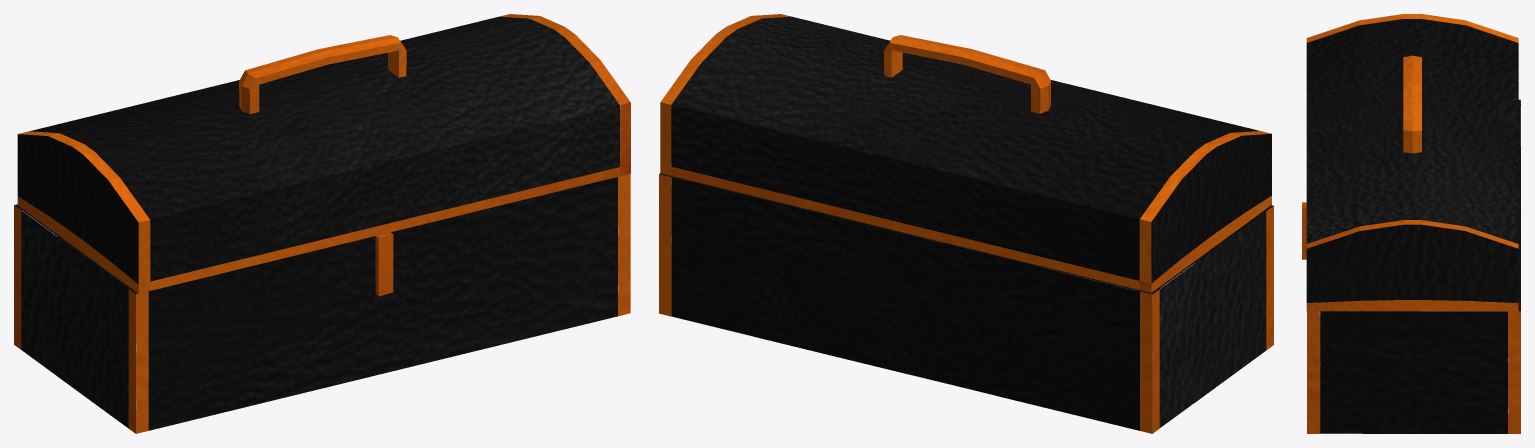
The model's file is toolBox.fbx.
3 views of the same model, side by side, from view 1: azimuth 30°, elevation 25°; view 2: azimuth 150°, elevation 25°; view 3: azimuth 270°, elevation 25° (orthographic). The views are drawn at different scales.
Visible parts, largest first — view 1: top, toolBox; view 2: top, toolBox; view 3: top, toolBox.
Part boxes in pixels (x1,y1,x2,y2): top: (17,14,630,293); toolBox: (14,174,630,433); top: (660,14,1271,292); toolBox: (659,173,1273,433); top: (1306,14,1518,311); toolBox: (1302,99,1520,433).
Bounding box in the file's own units: 489 × 263 × 213.
2 materials, 2 textured.
